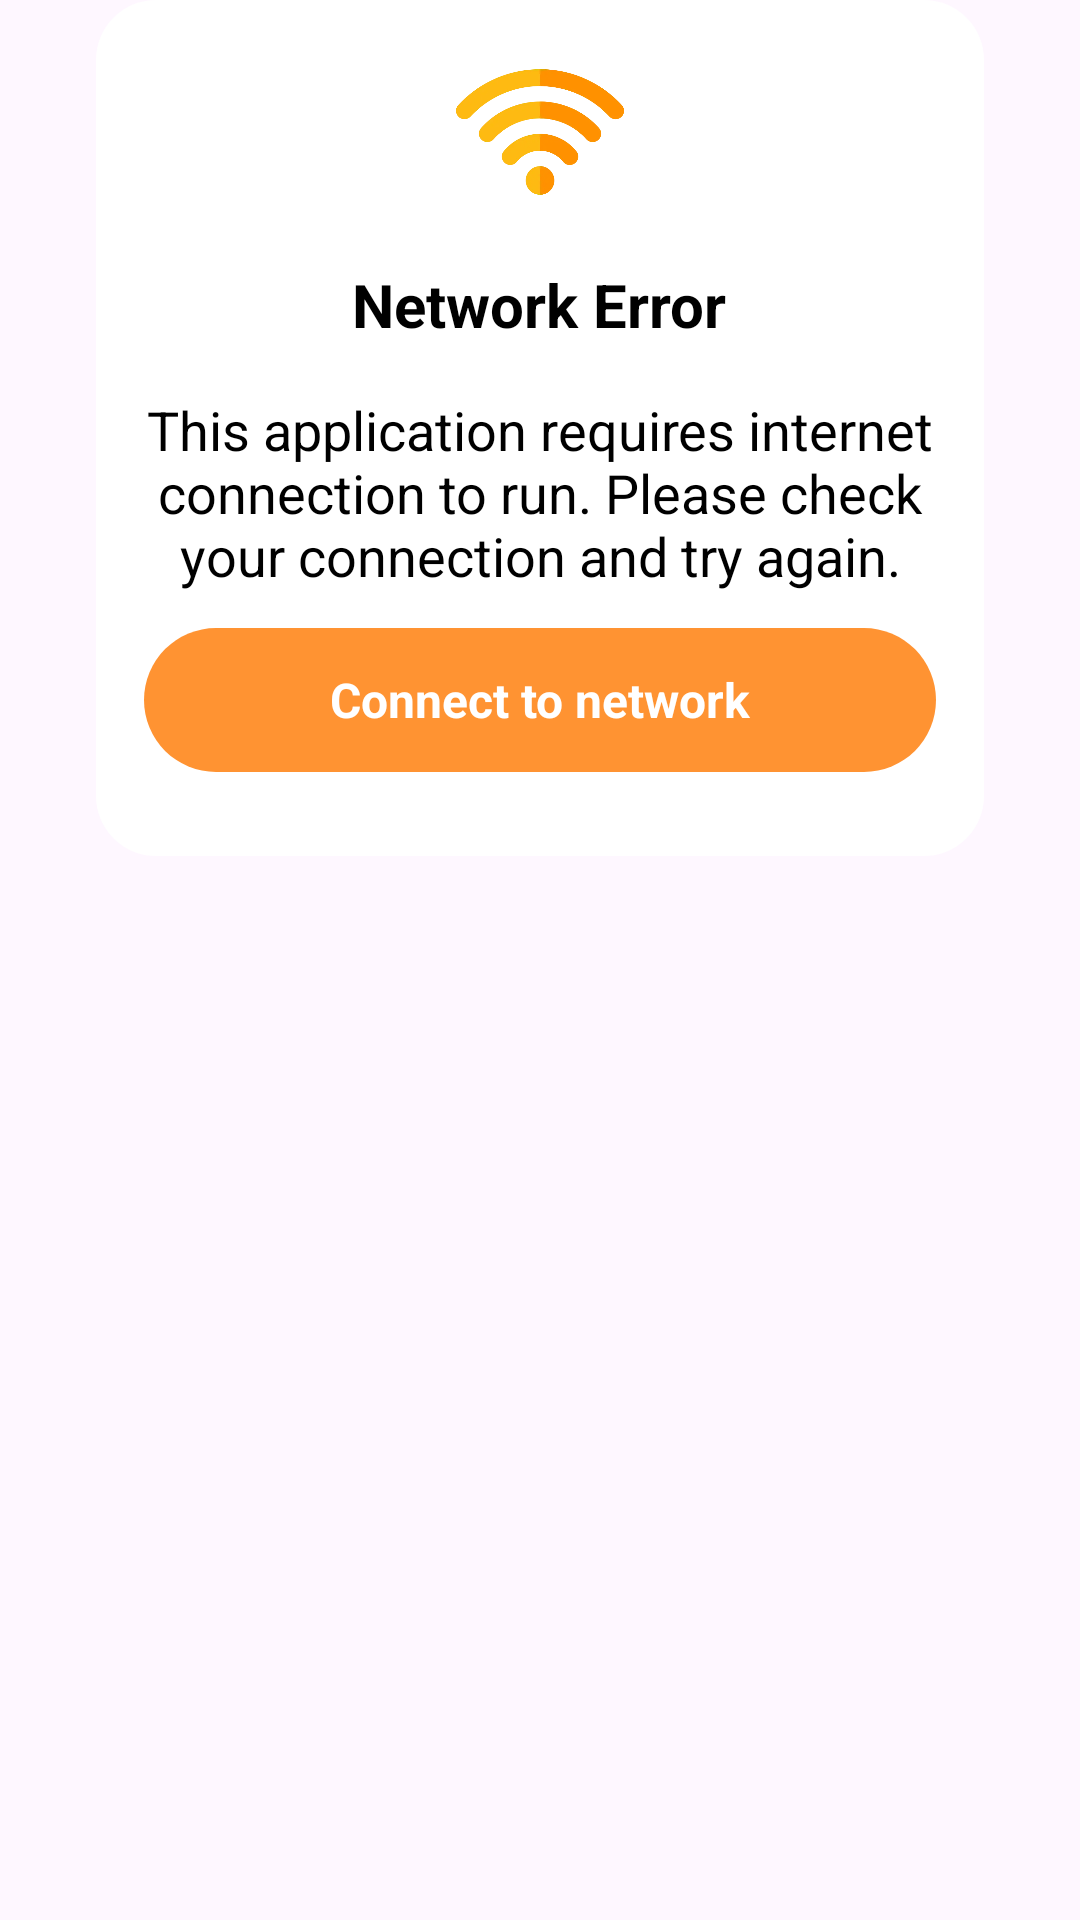

Icon click points for this 1080px x 1920px phone screenshot, format (x,y):
wifi: (540,132)
